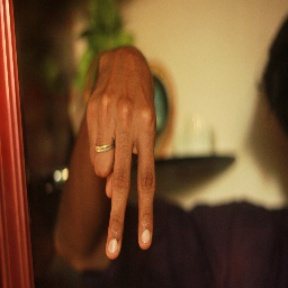Y: (77, 79, 161, 263)
